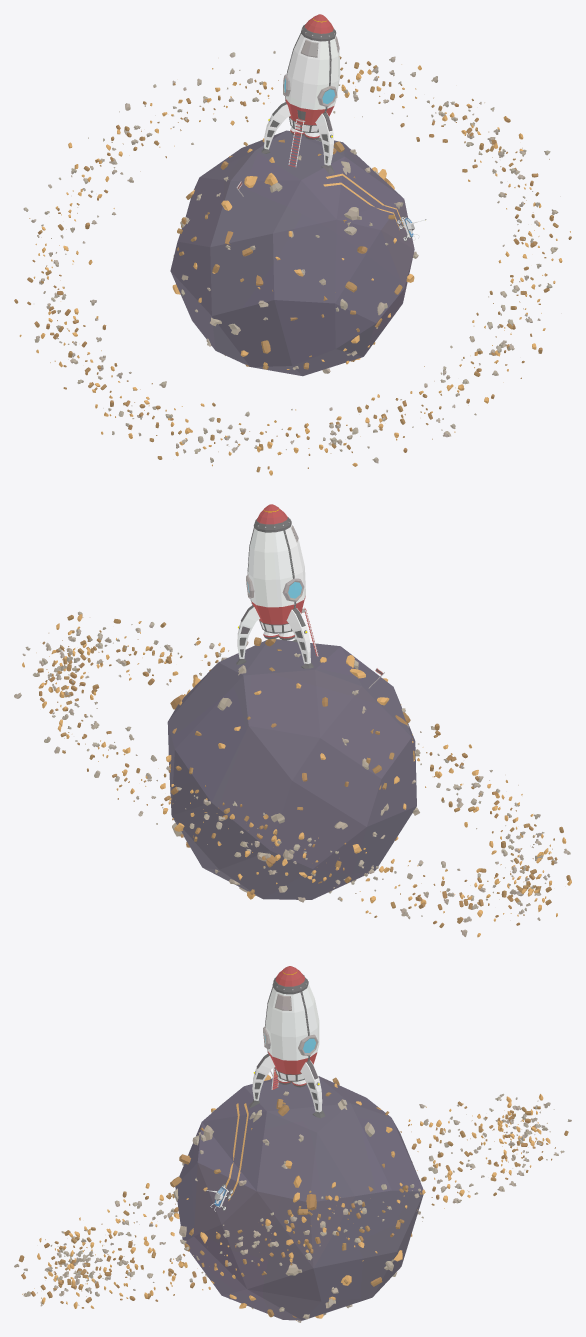
File: physcene.glb
The picture shows the model from 3 angles, top to bottom: view 1: azimuth 30°, elevation 25°; view 2: azimuth 150°, elevation 25°; view 3: azimuth 270°, elevation 25°; orthographic projection. The views are drawn at different scales.
Parts seen in each view (by area): view 1: planet.002; view 2: planet.002; view 3: planet.002.
Boxes of the visible parts, x1,y1,x2,y2 form: planet.002: (14,14,571,475); planet.002: (14,504,571,937); planet.002: (14,966,571,1322).
Bounding box in the file's own units: 30.54 × 22.9 × 31.63.
1 material, 1 textured.
